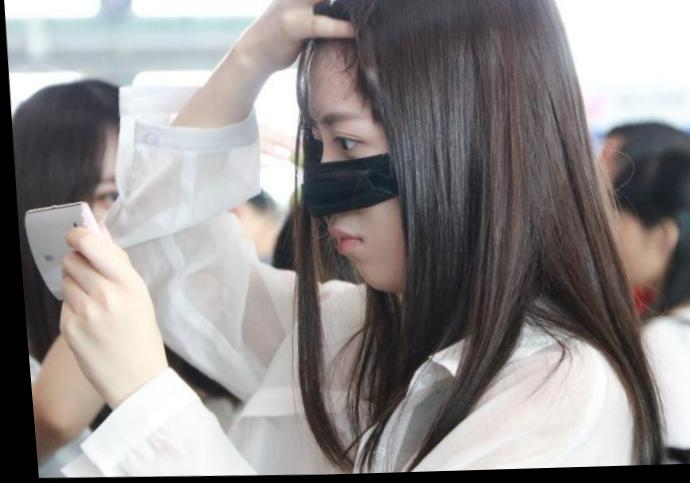WRONG: (287, 76, 454, 300)
